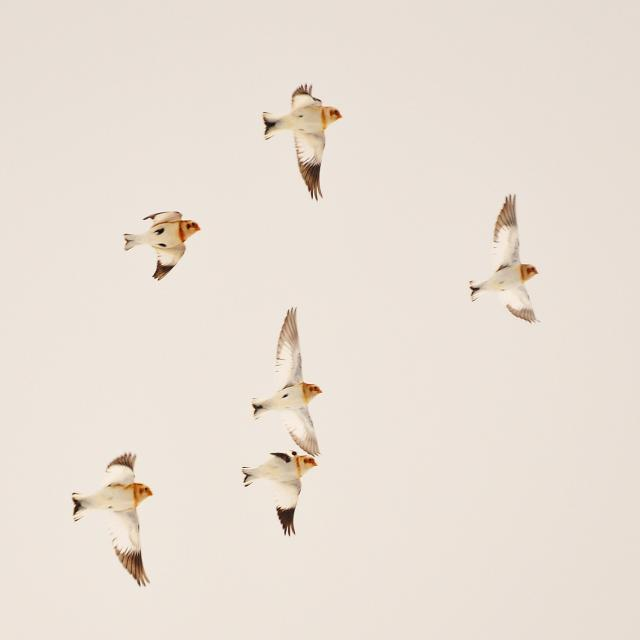bird: (67, 448, 162, 603), (258, 84, 348, 204), (468, 188, 544, 328), (251, 305, 329, 436), (240, 446, 323, 542), (120, 208, 204, 288)
